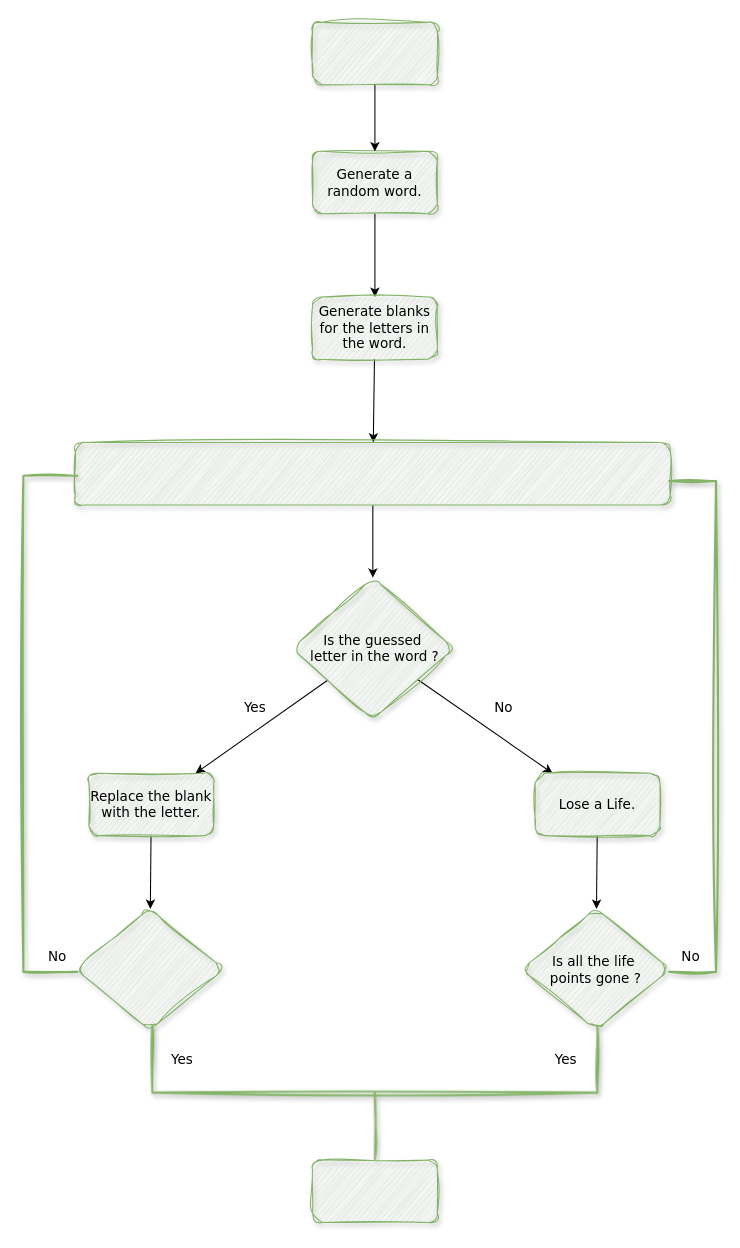
The diagram is 740 pixels wide and 1248 high, and some of its shapes have lost their labels. The shapes that lost their labels are listed below. From the top down, each one's centre as x and y in pixels, then its label:
At (375,54): "START".
At (373,474): "Ask the user to guess a letter in the word.".
At (150,970): "Are all the blanks filled ?".
At (375,1192): "GAME OVER !!".
